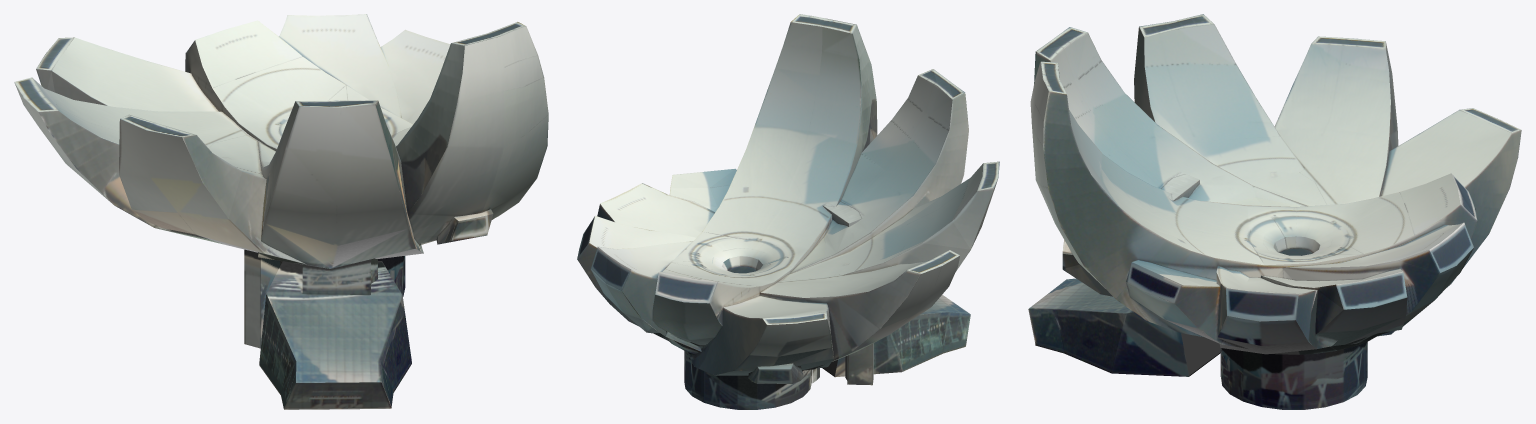
3 views of the same model, side by side, from view 1: azimuth 30°, elevation 25°; view 2: azimuth 150°, elevation 25°; view 3: azimuth 270°, elevation 25° (orthographic). The views are drawn at different scales.
Visible parts, largest first — view 1: 5_0.glb; view 2: 5_0.glb; view 3: 5_0.glb.
Part boxes in pixels (x1=…): 5_0.glb: x1=14, y1=14, x2=548, y2=409; 5_0.glb: x1=577, y1=14, x2=999, y2=409; 5_0.glb: x1=1028, y1=14, x2=1521, y2=409.
Size of the model in its own units: 85.13 by 60.36 by 84.63.
Materials: 1 (1 with a texture image).
